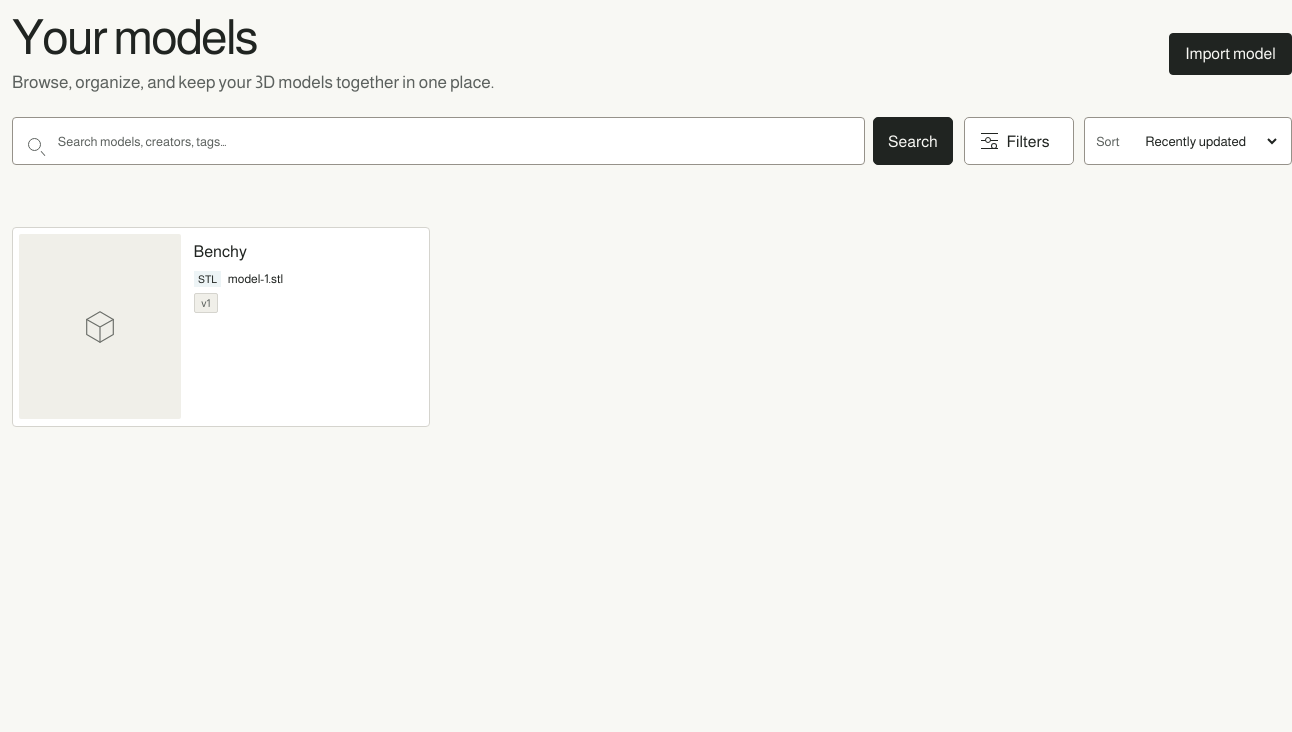
Test case: catalogue pages › keeps advanced filters behind a separate disclosure
Expected: the link "Benchy STL model-1.stl v1" is shown, [12, 227, 430, 427]
Click the button "Filters". click: (1019, 141)
box: [964, 117, 1074, 165]
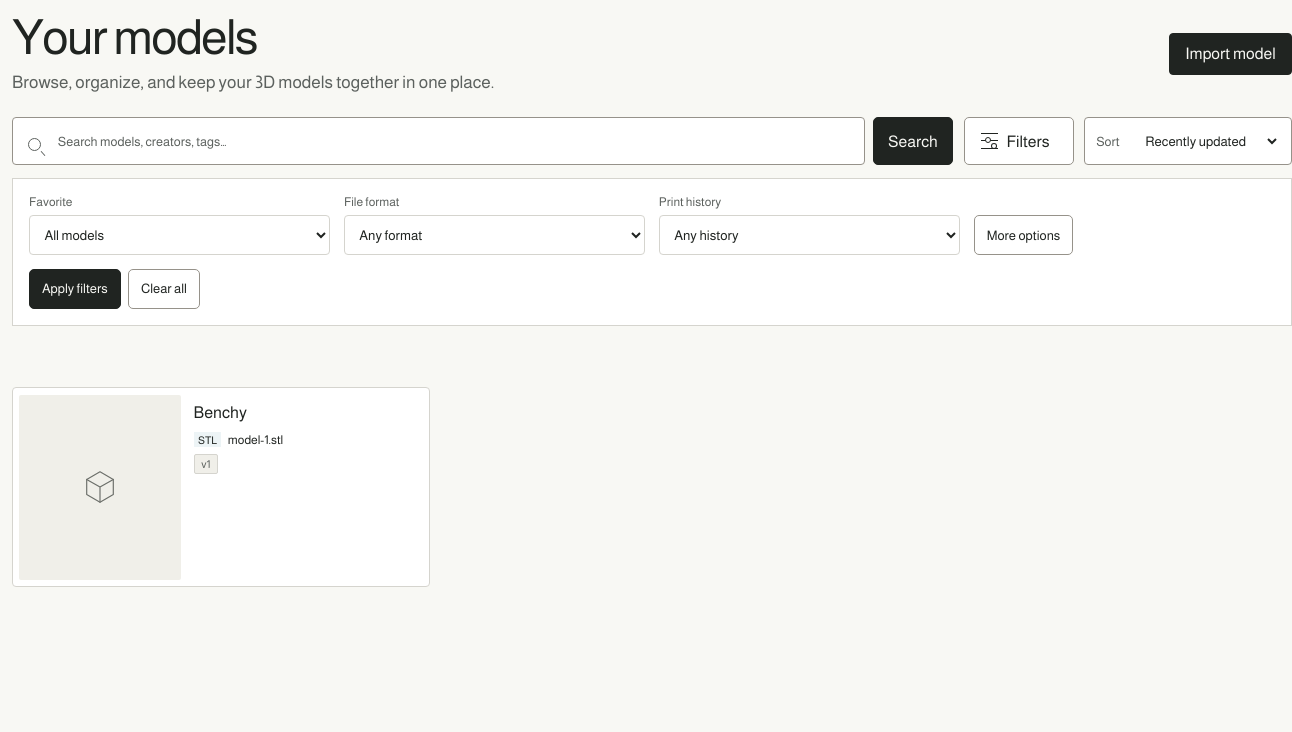
Expected: the dropdown labelled "Source" is not shown
Expected: the dropdown labelled "Favorite" is shown, [29, 215, 330, 255]
Click the button "More options". click: (1024, 235)
box: [974, 215, 1073, 255]
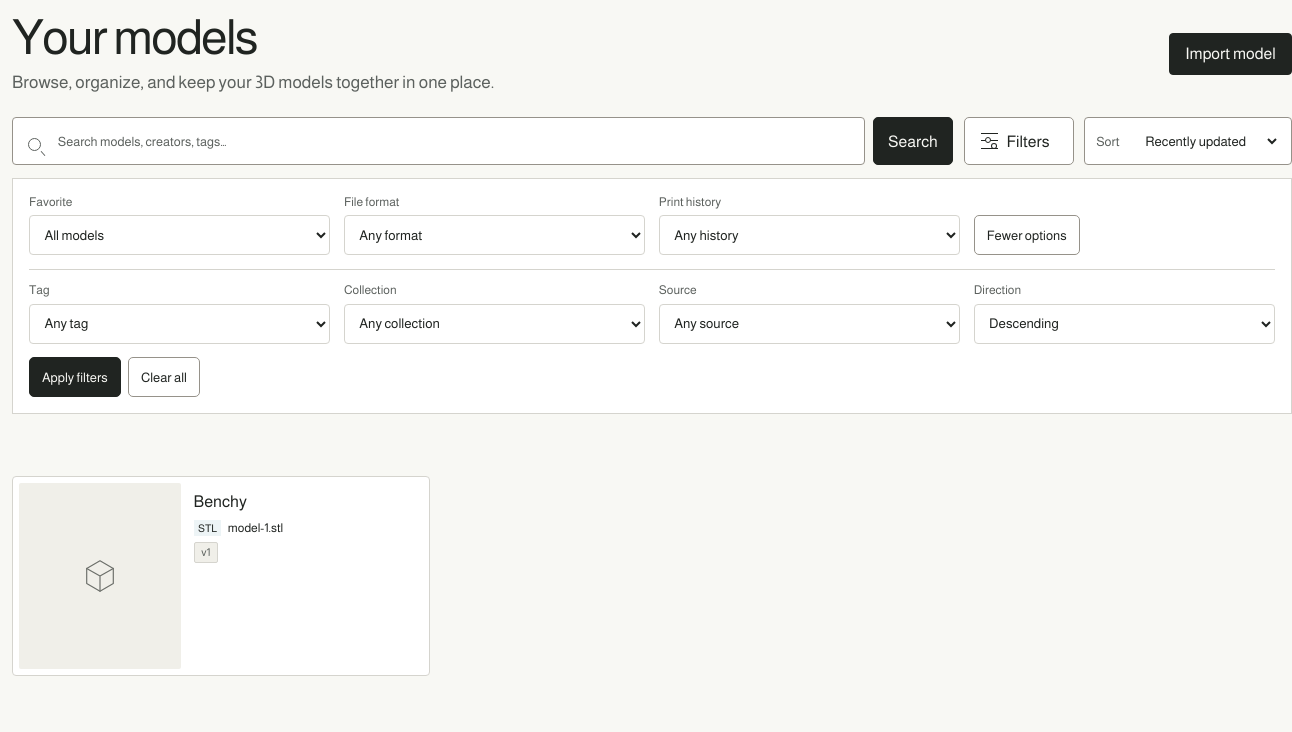
Expected: the dropdown labelled "Source" is shown, [659, 304, 960, 344]
